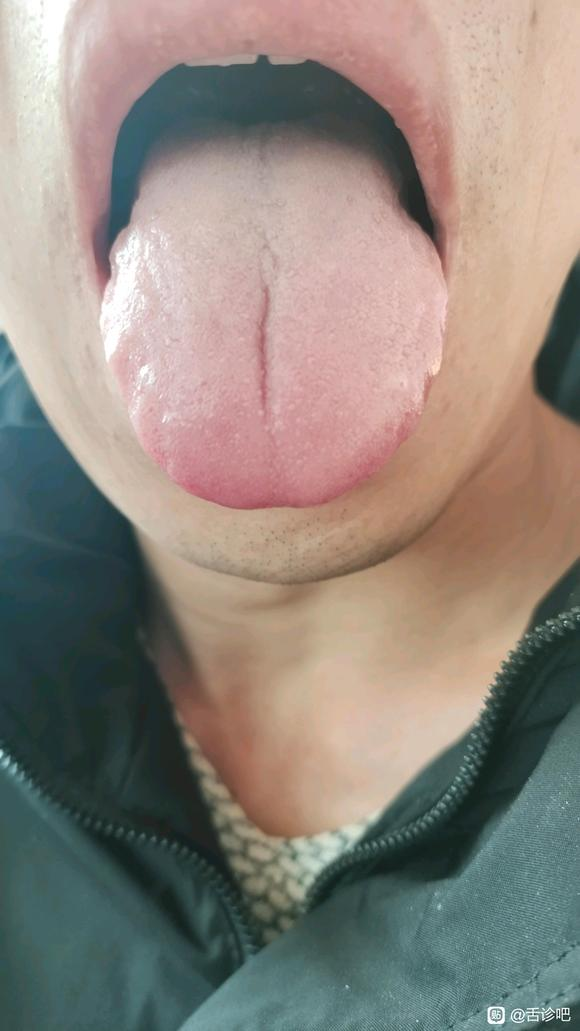baitaishe: (100, 110, 447, 510)
chihenshe: (101, 319, 173, 478)
liewenshe: (255, 283, 273, 415)
pangdashe: (100, 110, 447, 510)
